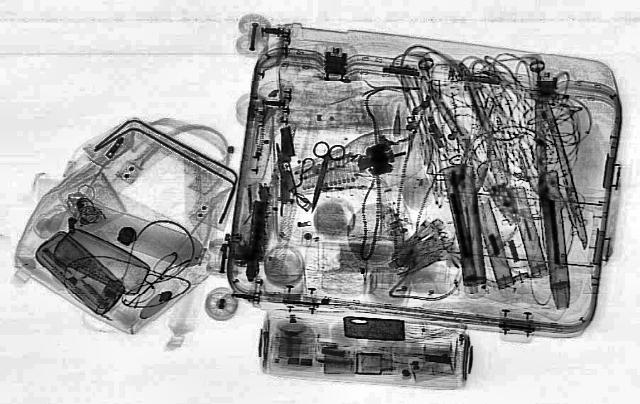Scissors: (292, 140, 348, 214)
